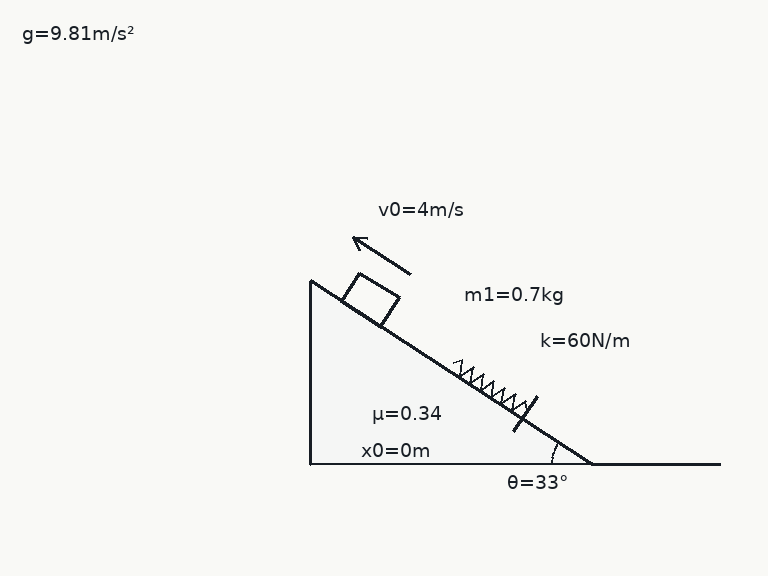block: (339, 270, 400, 328)
ramp: (308, 279, 594, 466)
spring: (451, 359, 528, 413)
